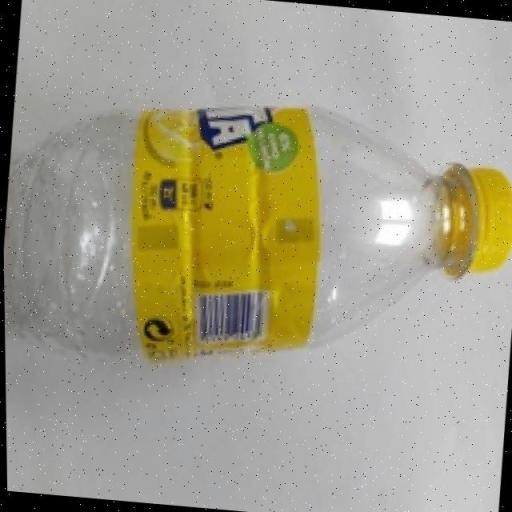plastic: (1, 76, 512, 386)
